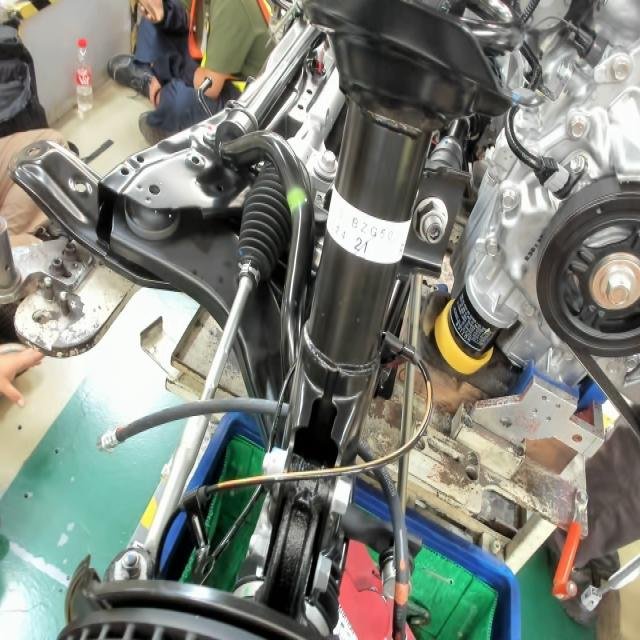Absorber RH-21: (349, 230, 372, 260)
Bar Stabilizer-HJ: (285, 182, 314, 218)
